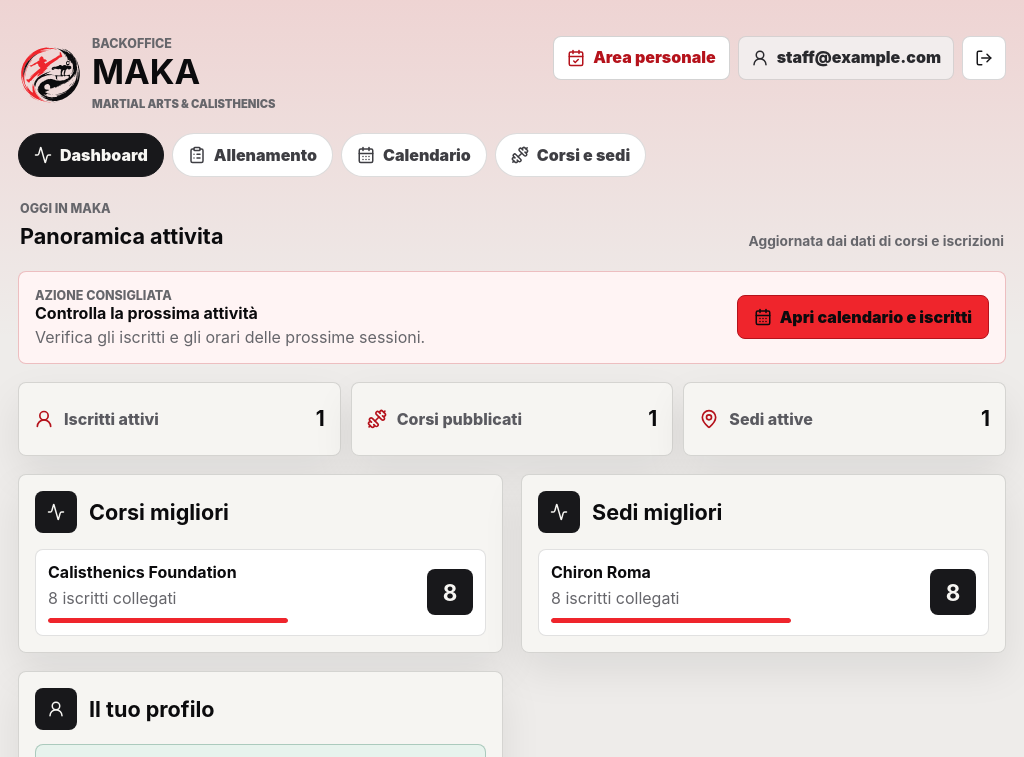
Test: App › keeps collaborators in course management without loading user data
Check: the heading "Corsi migliori" is shown, box [89,500,229,524]
Click the button "Corsi e sedi" at (570, 155), box [495,133,646,177]
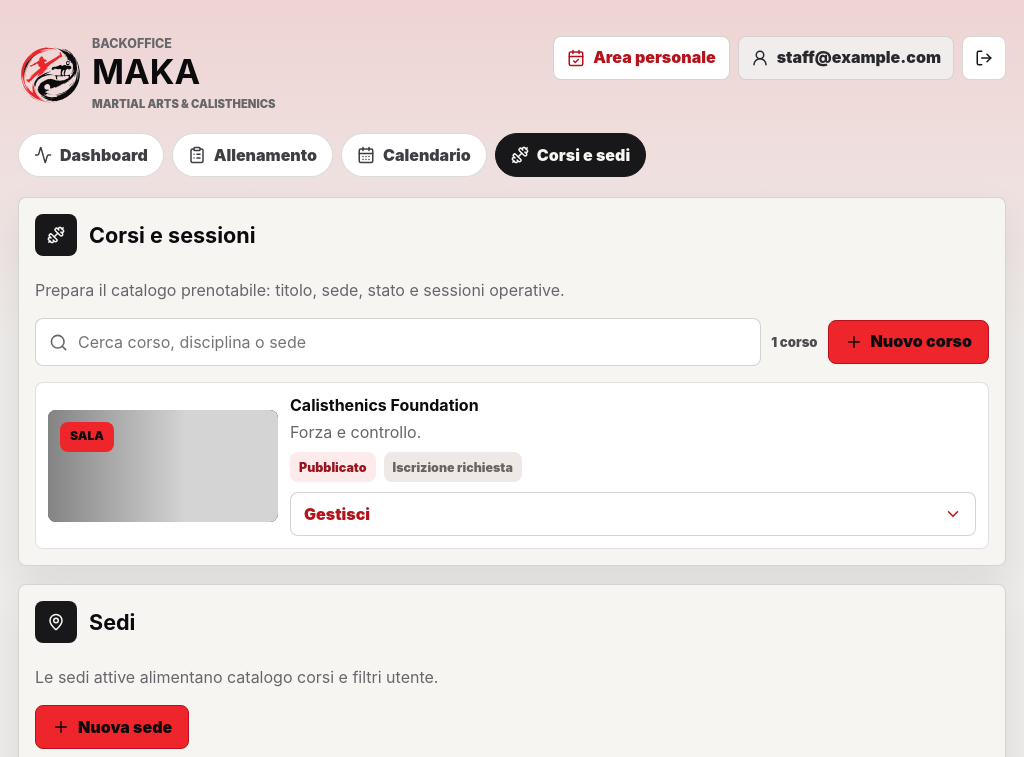
Check: the heading "Corsi e sessioni" is shown, box [89,223,256,248]
